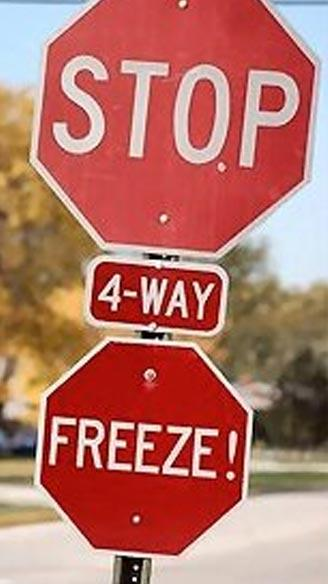stop_sign: (27, 6, 308, 257)
